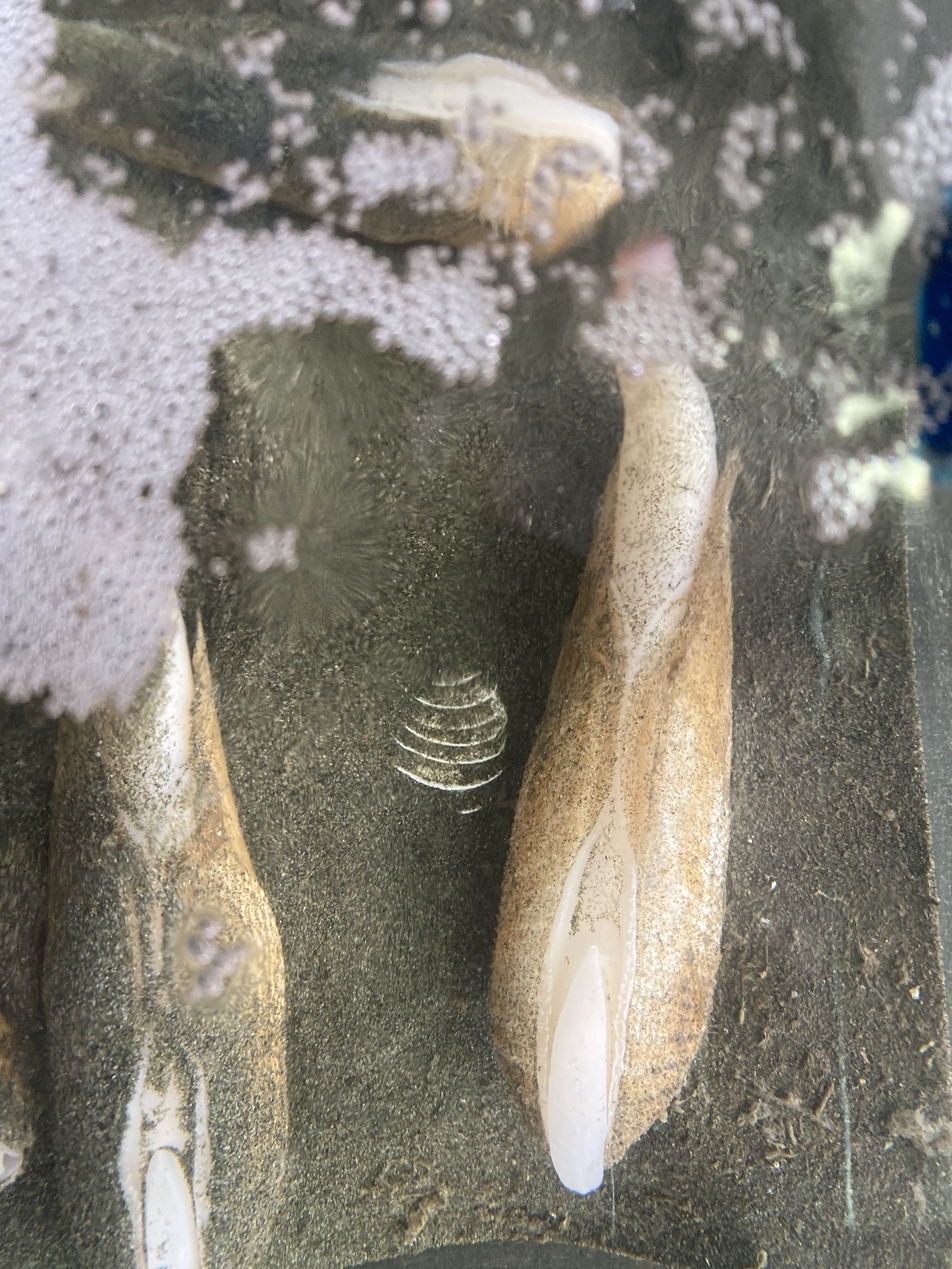Healthy: (491, 235, 734, 1193), (47, 612, 288, 1269)
